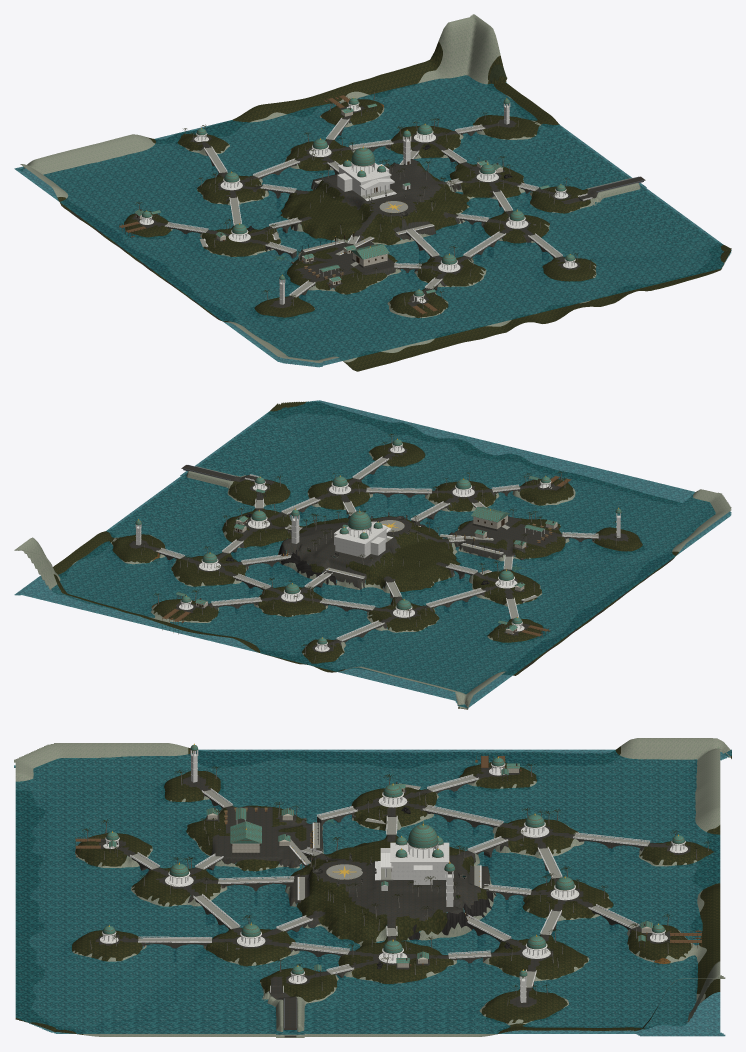
The model's file is world-lod2.glb.
3 renders of one model, top to bottom at view 1: azimuth 30°, elevation 25°; view 2: azimuth 150°, elevation 25°; view 3: azimuth 270°, elevation 25°, orthographic. The views are drawn at different scales.
Parts seen in each view (by area): view 1: Water_Lagoon, Terrain_Shore, Terrain_Shore_StreamCell_four-gates-crownwater, Water_Lagoon_StreamCell_four-gates-crownwater, Terrain_Meadow, Terrain_Meadow_StreamCell_four-gates-crownwater, Water_StreamCauseway_four-gates-crownwater_StreamCell_four-g, Terrain_Paving_StreamCell_four-gates-crownwater, Terrain_Paving, Terrain_Shore_ContinentBlend_manymouth_delta_1, Terrain_Shore_ContinentBlend_amberwood_1, Landmark_Cathedral__crownwater_marble (+5 smaller); view 2: Water_Lagoon, Terrain_Shore, Terrain_Shore_StreamCell_four-gates-crownwater, Water_Lagoon_StreamCell_four-gates-crownwater, Terrain_Meadow, Terrain_Meadow_StreamCell_four-gates-crownwater, Water_StreamCauseway_four-gates-crownwater_StreamCell_four-g, Terrain_Paving, Terrain_Paving_StreamCell_four-gates-crownwater, Terrain_Shore_ContinentBlend_manymouth_delta_1, Landmark_Cathedral__crownwater_marble, Terrain_Shore_ContinentBlend_grey_moors_1 (+4 smaller); view 3: Water_Lagoon, Terrain_Shore, Terrain_Shore_StreamCell_four-gates-crownwater, Water_Lagoon_StreamCell_four-gates-crownwater, Terrain_Meadow, Terrain_Meadow_StreamCell_four-gates-crownwater, Water_StreamCauseway_four-gates-crownwater_StreamCell_four-g, Terrain_Paving_StreamCell_four-gates-crownwater, Terrain_Paving, Terrain_Shore_ContinentBlend_manymouth_delta_1, Terrain_Shore_ContinentBlend_grey_moors_1, Landmark_Cathedral__crownwater_marble (+8 smaller).
Part boxes in pixels (bbox=[...]): Water_Lagoon: bbox=[14, 75, 731, 367]; Terrain_Shore: bbox=[20, 14, 719, 362]; Terrain_Shore_StreamCell_four-gates-crownwater: bbox=[370, 134, 710, 303]; Water_Lagoon_StreamCell_four-gates-crownwater: bbox=[384, 143, 664, 300]; Terrain_Meadow: bbox=[123, 99, 596, 320]; Terrain_Meadow_StreamCell_four-gates-crownwater: bbox=[306, 162, 594, 298]; Water_StreamCauseway_four-gates-crownwater_StreamCell_four-g: bbox=[522, 131, 711, 247]; Terrain_Paving_StreamCell_four-gates-crownwater: bbox=[300, 159, 590, 286]; Terrain_Paving: bbox=[132, 105, 580, 307]; Terrain_Shore_ContinentBlend_manymouth_delta_1: bbox=[355, 268, 720, 370]; Terrain_Shore_ContinentBlend_amberwood_1: bbox=[157, 45, 442, 143]; Landmark_Cathedral__crownwater_marble: bbox=[337, 162, 394, 196]; Water_Lagoon: bbox=[14, 400, 731, 708]; Terrain_Shore: bbox=[14, 414, 731, 709]; Terrain_Shore_StreamCell_four-gates-crownwater: bbox=[116, 423, 522, 588]; Water_Lagoon_StreamCell_four-gates-crownwater: bbox=[162, 431, 521, 587]; Terrain_Meadow: bbox=[112, 442, 644, 663]; Terrain_Meadow_StreamCell_four-gates-crownwater: bbox=[222, 446, 525, 588]; Water_StreamCauseway_four-gates-crownwater_StreamCell_four-g: bbox=[115, 420, 304, 535]; Terrain_Paving: bbox=[129, 446, 628, 652]; Terrain_Paving_StreamCell_four-gates-crownwater: bbox=[233, 447, 496, 581]; Terrain_Shore_ContinentBlend_manymouth_delta_1: bbox=[318, 403, 677, 503]; Landmark_Cathedral__crownwater_marble: bbox=[334, 521, 391, 558]; Terrain_Shore_ContinentBlend_grey_moors_1: bbox=[507, 555, 672, 671]; Water_Lagoon: bbox=[14, 749, 731, 1036]; Terrain_Shore: bbox=[14, 738, 730, 1037]; Terrain_Shore_StreamCell_four-gates-crownwater: bbox=[106, 858, 473, 1037]; Water_Lagoon_StreamCell_four-gates-crownwater: bbox=[106, 865, 473, 1004]; Terrain_Meadow: bbox=[71, 762, 701, 1023]; Terrain_Meadow_StreamCell_four-gates-crownwater: bbox=[106, 852, 473, 1002]; Water_StreamCauseway_four-gates-crownwater_StreamCell_four-g: bbox=[106, 1005, 473, 1034]; Terrain_Paving_StreamCell_four-gates-crownwater: bbox=[106, 855, 473, 993]; Terrain_Paving: bbox=[95, 766, 690, 1007]; Terrain_Shore_ContinentBlend_manymouth_delta_1: bbox=[15, 808, 43, 1018]; Terrain_Shore_ContinentBlend_grey_moors_1: bbox=[198, 752, 598, 767]; Landmark_Cathedral__crownwater_marble: bbox=[380, 842, 449, 884].
Bounding box in the file's own units: 406 × 64.99 × 430.
Materials: 31 (31 with a texture image).
